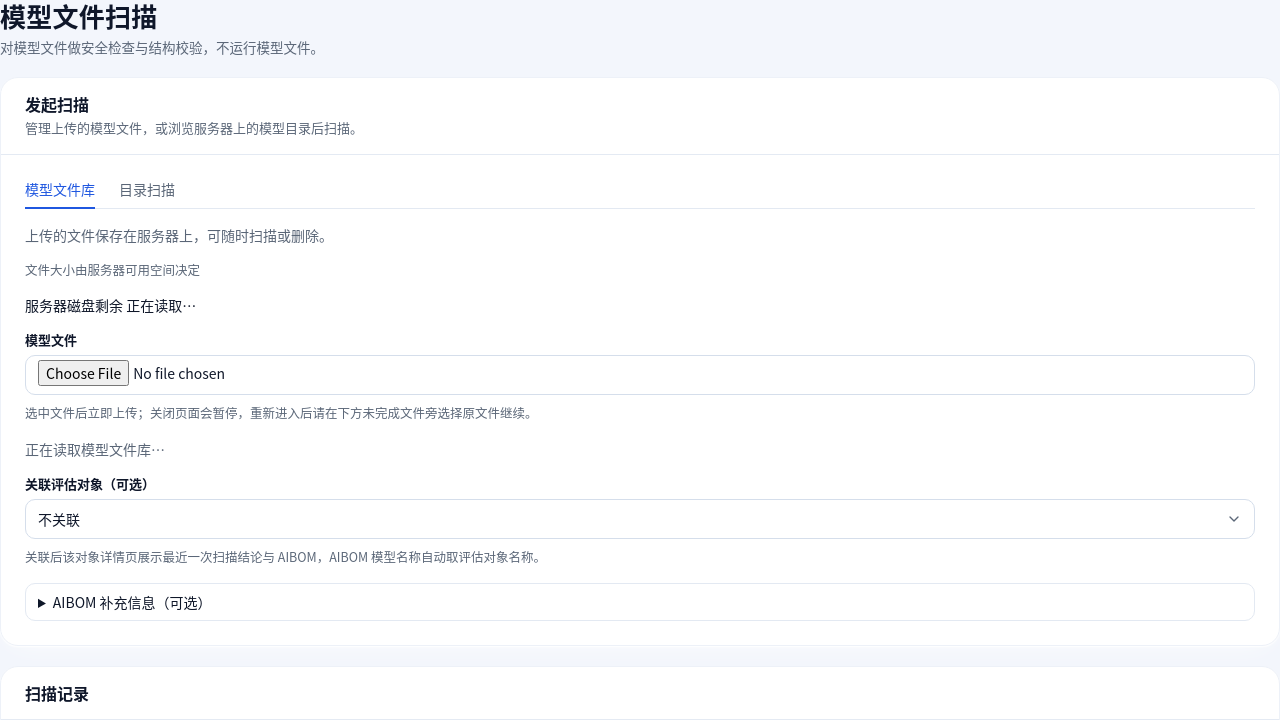
Scenario: 目录浏览：面包屑 + 列表 › 只有一个根目录时不出现下拉
Click the tab "目录扫描" at (147, 194), box [119,179,175,209]
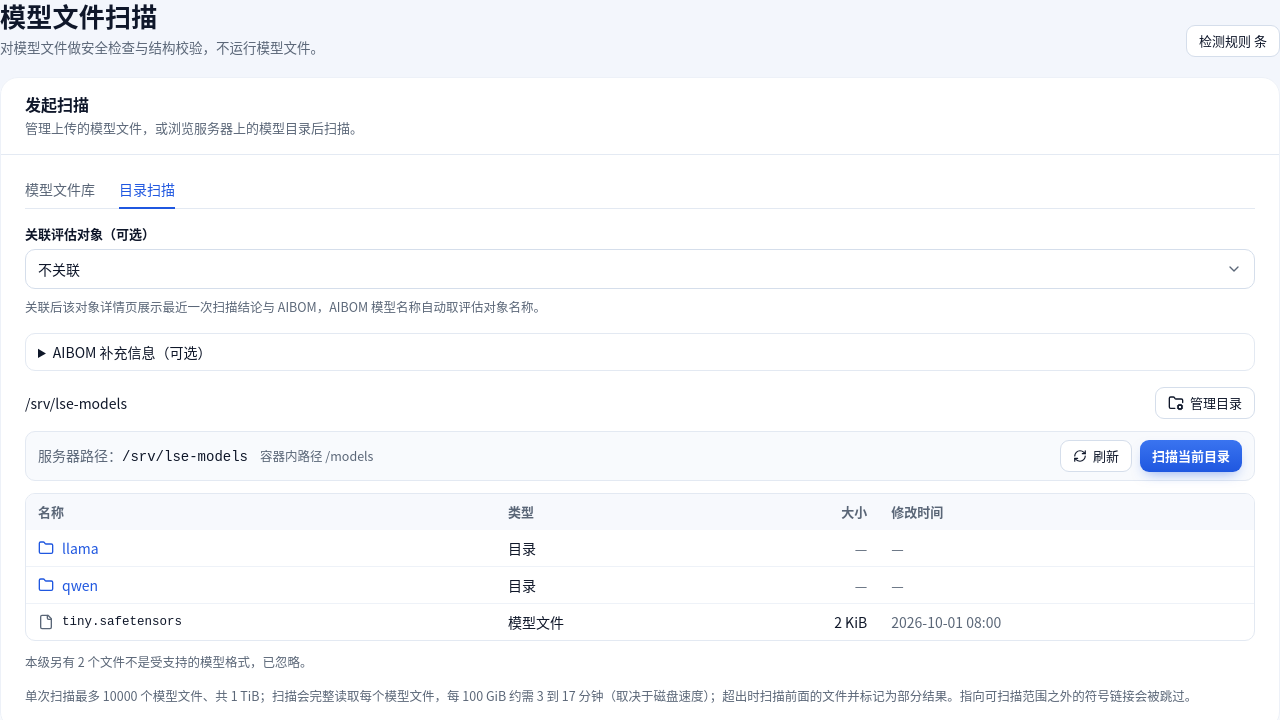
Result: the element with test id "scan-bar" is shown at [25,431,1255,481]
Result: the navigation bar named "目录路径" reads "/srv/lse-models" at [25,393,127,413]
Result: the button "管理目录" is shown at [1155,387,1255,419]
